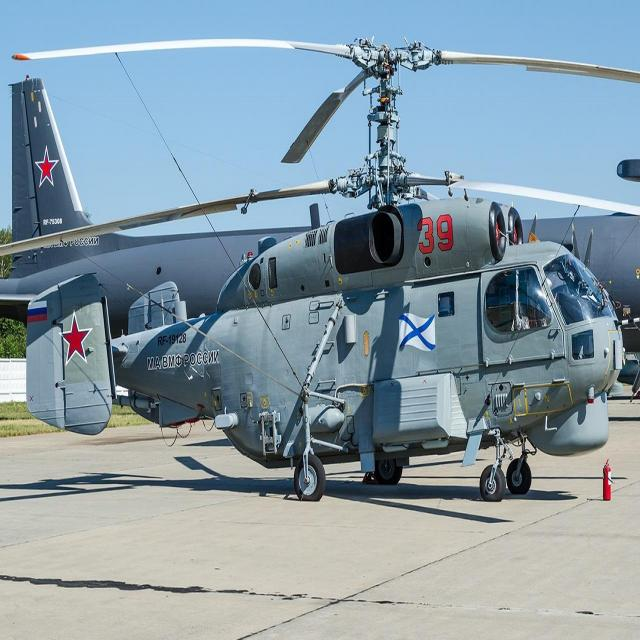MIL_HELO: (0, 25, 640, 516)
